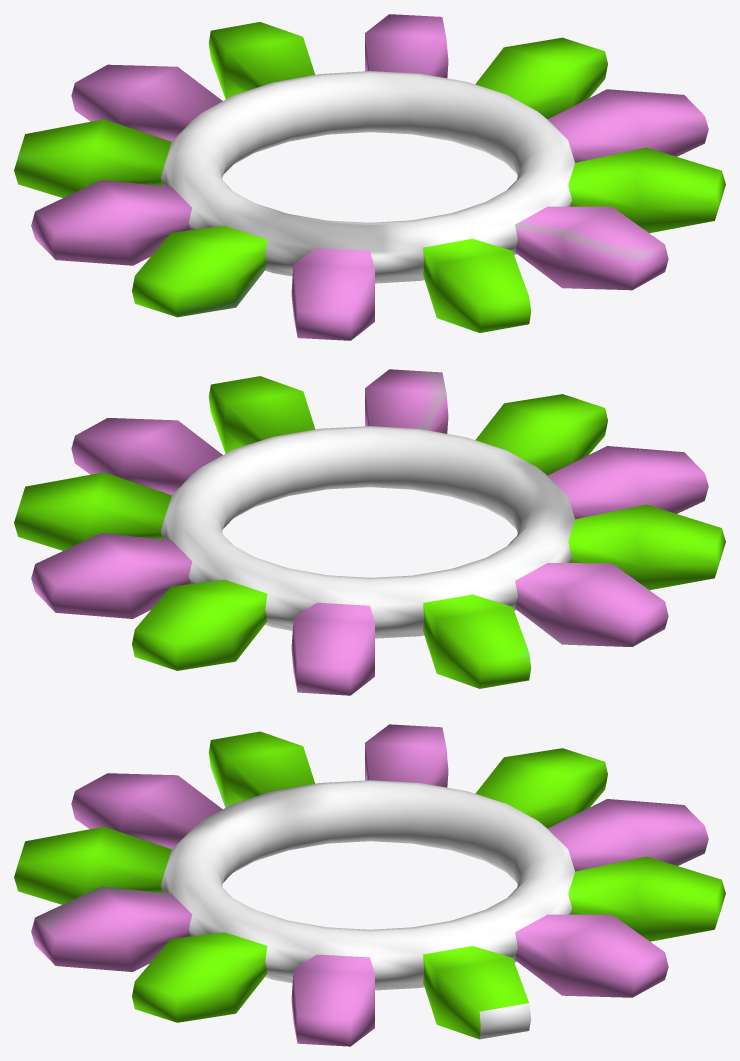
File: Hoop.obj
3 renders of one model, top to bottom at view 1: azimuth 30°, elevation 25°; view 2: azimuth 150°, elevation 25°; view 3: azimuth 270°, elevation 25°, orthographic.
Visible parts, largest first — view 1: Torus001; view 2: Torus001; view 3: Torus001.
Boxes of the visible parts, x1=… form: Torus001: x1=14, y1=14, x2=725, y2=340; Torus001: x1=14, y1=369, x2=725, y2=695; Torus001: x1=14, y1=724, x2=725, y2=1046.
Size of the model in its own units: 55.56 by 4.91 by 55.56.
Materials: 3 (3 with a texture image).
